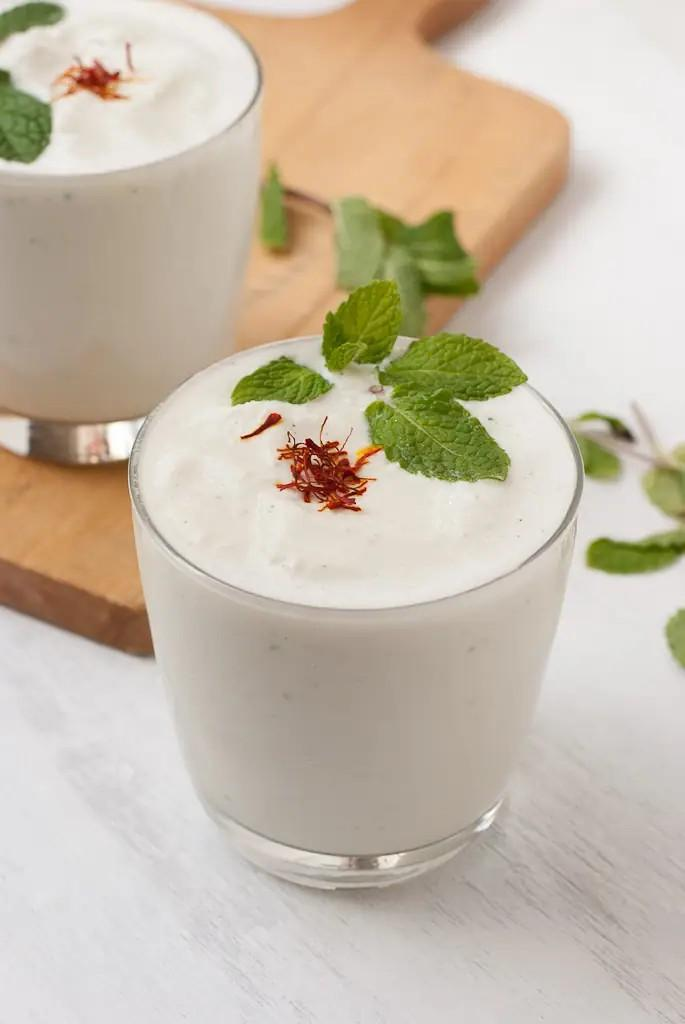Lassi: (131, 336, 579, 855), (0, 0, 262, 421)
